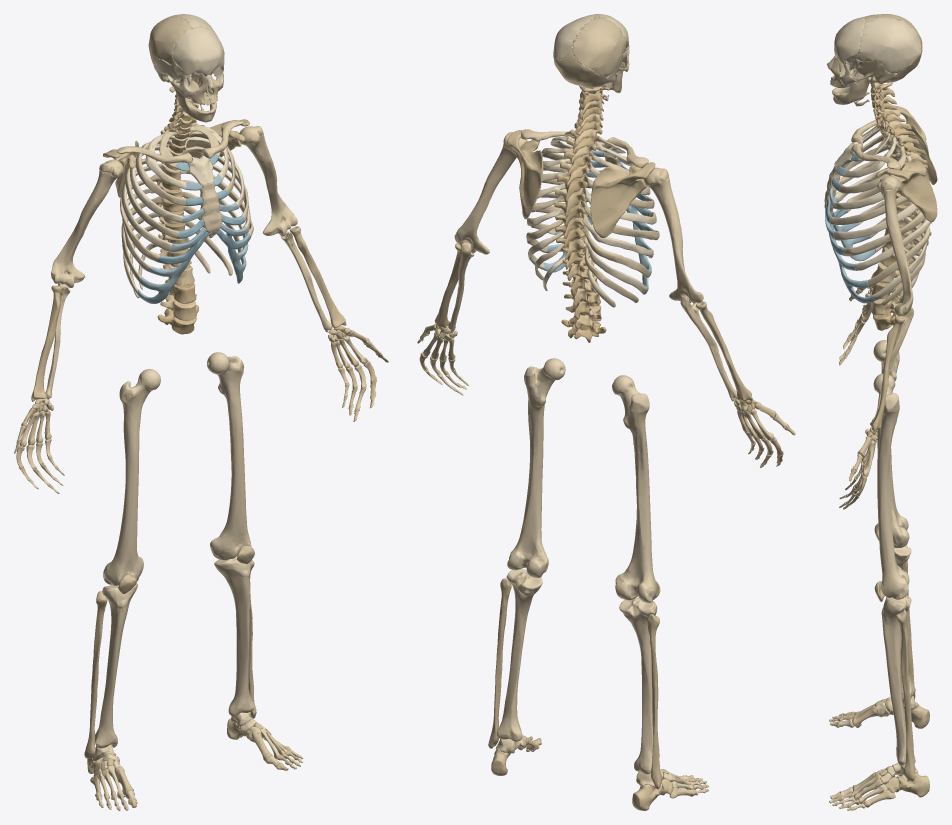
The model's file is bp3d-vh-m-skeleton-full.glb.
The picture shows the model from 3 angles, left to right: view 1: azimuth 30°, elevation 25°; view 2: azimuth 150°, elevation 25°; view 3: azimuth 270°, elevation 25°; orthographic projection.
Visible parts, largest first — view 1: right-femur, left-femur, left-tibia, right-tibia, right-humerus, left-humerus, frontal-bone, right-parietal-bone, right-fibula, right-radius, left-radius, right-lower-costal-cartilages (+5 smaller); view 2: right-femur, left-femur, right-scapula, left-tibia, right-tibia, right-parietal-bone, right-humerus, left-humerus, left-scapula, right-fibula, left-fibula, occipital-bone (+5 smaller); view 3: left-femur, left-parietal-bone, left-tibia, left-humerus, left-scapula, left-fibula, right-femur, frontal-bone, left-radius, right-scapula, left-seventh-rib, mandible (+29 smaller).
Part boxes in pixels (x1=…): right-femur: x1=103, y1=369, x2=160, y2=585; left-femur: x1=207, y1=352, x2=251, y2=560; left-tibia: x1=214, y1=555, x2=254, y2=717; right-tibia: x1=95, y1=583, x2=137, y2=748; right-humerus: x1=51, y1=159, x2=123, y2=287; left-humerus: x1=239, y1=126, x2=297, y2=236; frontal-bone: x1=172, y1=26, x2=224, y2=77; right-parietal-bone: x1=148, y1=15, x2=192, y2=66; right-fibula: x1=84, y1=591, x2=107, y2=758; right-radius: x1=31, y1=285, x2=62, y2=401; left-radius: x1=290, y1=226, x2=346, y2=327; right-lower-costal-cartilages: x1=137, y1=256, x2=192, y2=303; right-femur: x1=612, y1=375, x2=657, y2=602; left-femur: x1=507, y1=358, x2=565, y2=577; right-scapula: x1=590, y1=162, x2=655, y2=237; left-tibia: x1=497, y1=568, x2=542, y2=741; right-tibia: x1=619, y1=597, x2=659, y2=774; right-parietal-bone: x1=571, y1=16, x2=626, y2=76; right-humerus: x1=644, y1=167, x2=703, y2=303; left-humerus: x1=454, y1=132, x2=527, y2=254; left-scapula: x1=507, y1=130, x2=543, y2=219; right-fibula: x1=647, y1=614, x2=661, y2=789; left-fibula: x1=488, y1=578, x2=511, y2=748; occipital-bone: x1=554, y1=53, x2=606, y2=87; left-femur: x1=873, y1=373, x2=909, y2=599; left-parietal-bone: x1=855, y1=17, x2=921, y2=73; left-tibia: x1=881, y1=595, x2=915, y2=765; left-humerus: x1=877, y1=176, x2=913, y2=315; left-scapula: x1=875, y1=157, x2=937, y2=222; left-fibula: x1=895, y1=609, x2=915, y2=781; right-femur: x1=873, y1=340, x2=909, y2=547; frontal-bone: x1=834, y1=16, x2=865, y2=64; left-radius: x1=870, y1=316, x2=904, y2=431; right-scapula: x1=896, y1=106, x2=937, y2=184; left-seventh-rib: x1=842, y1=211, x2=925, y2=256; mandible: x1=832, y1=75, x2=871, y2=104.
Size of the model in its own units: 0.9387 by 1.8 by 0.2477.
